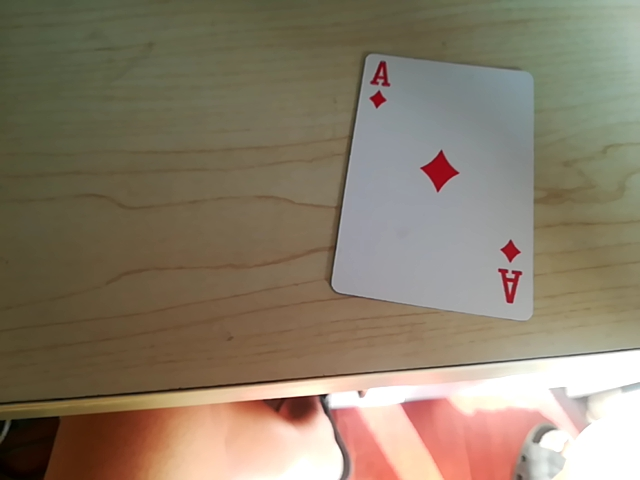fk a: (496, 235, 528, 306), (358, 59, 393, 115)
